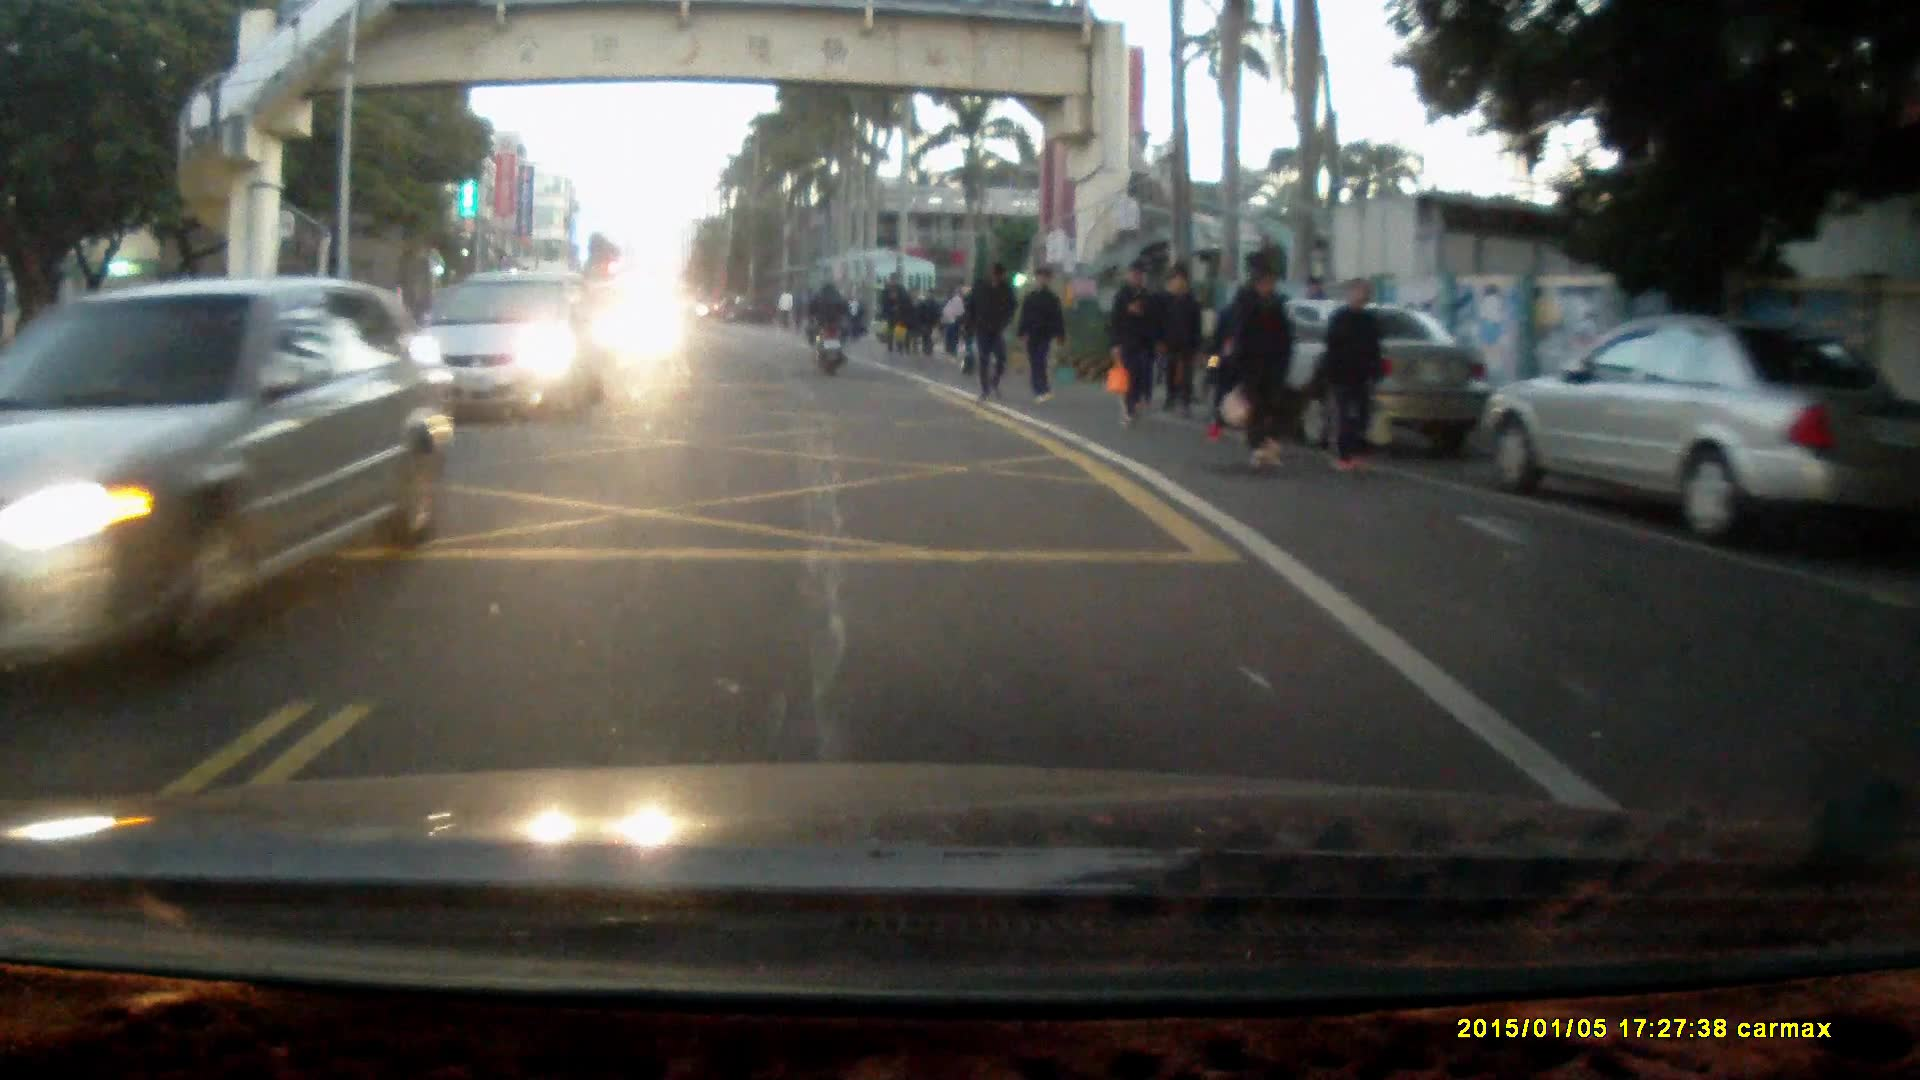pedestrian: (1315, 275, 1389, 476), (1232, 268, 1298, 473), (1106, 258, 1161, 425), (970, 269, 1024, 409), (1166, 261, 1212, 420), (1017, 266, 1068, 401), (876, 272, 907, 360), (938, 285, 966, 366), (899, 282, 930, 356)
rider: (805, 278, 851, 379)
vehicle: (1, 274, 454, 684), (1478, 320, 1920, 547), (1204, 300, 1492, 450), (394, 269, 612, 425)
